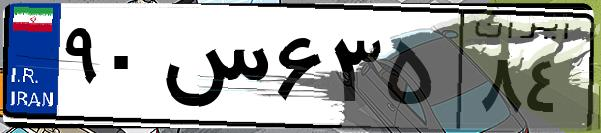0: (110, 28, 158, 98)
3: (330, 28, 385, 110)
4: (525, 38, 570, 115)
5: (385, 28, 445, 110)
6: (270, 28, 330, 110)
8: (475, 38, 525, 113)
9: (57, 26, 110, 100)
س: (158, 20, 270, 120)
